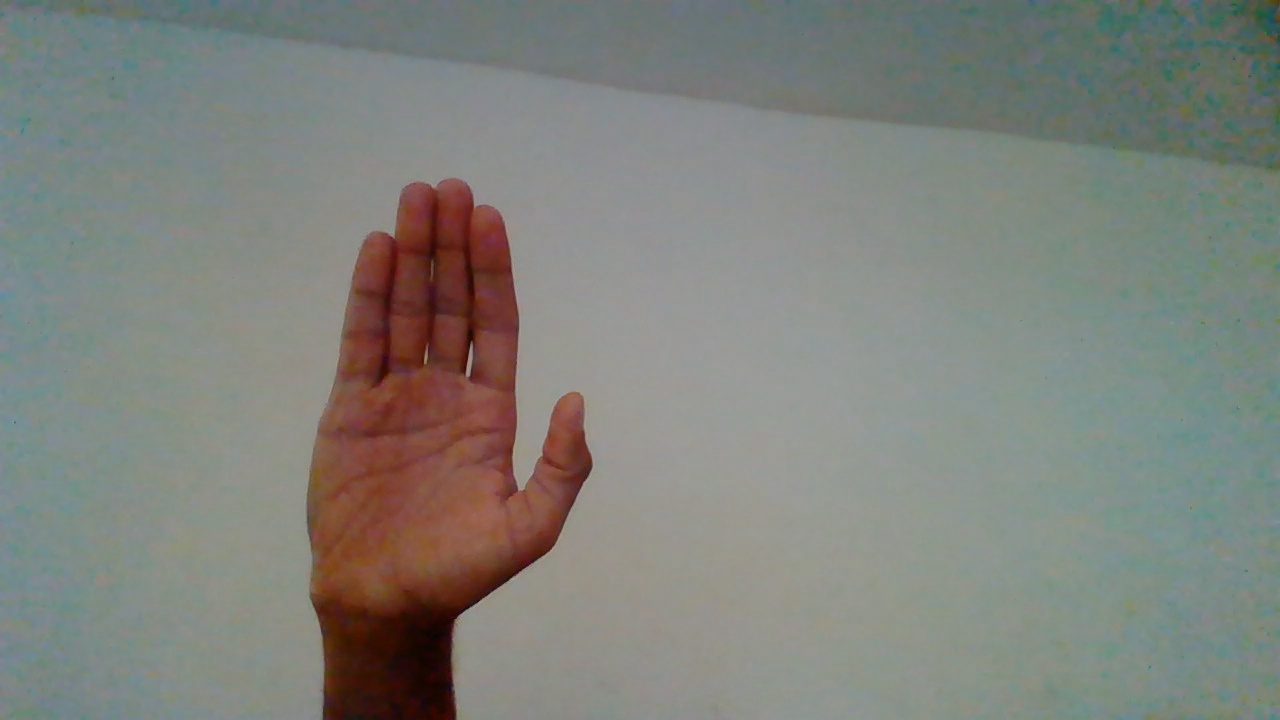ha: (298, 182, 594, 670)
